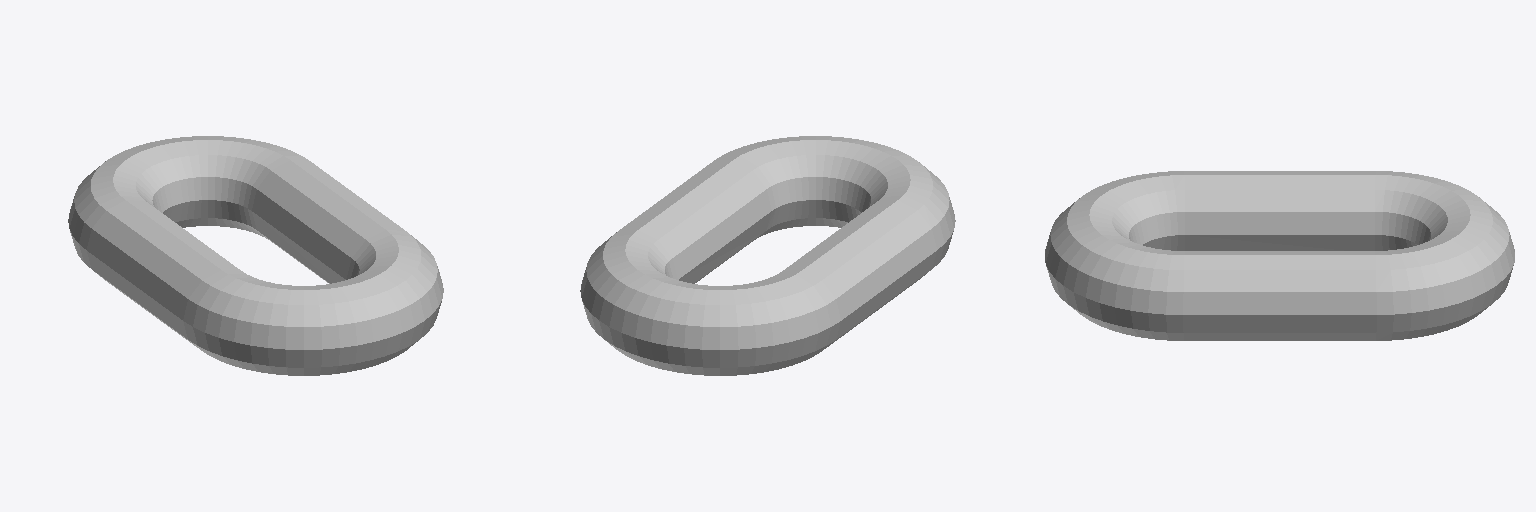
File: chain.obj
3 views of the same model, side by side, from view 1: azimuth 30°, elevation 25°; view 2: azimuth 150°, elevation 25°; view 3: azimuth 270°, elevation 25° (orthographic).
Parts seen in each view (by area): view 1: Torus; view 2: Torus; view 3: Torus.
Part boxes in pixels (x1,y1,x2,y2): Torus: (68, 136, 443, 375); Torus: (580, 136, 955, 375); Torus: (1045, 171, 1514, 340).
Bounding box in the file's own units: 2.96 × 0.9529 × 4.97.